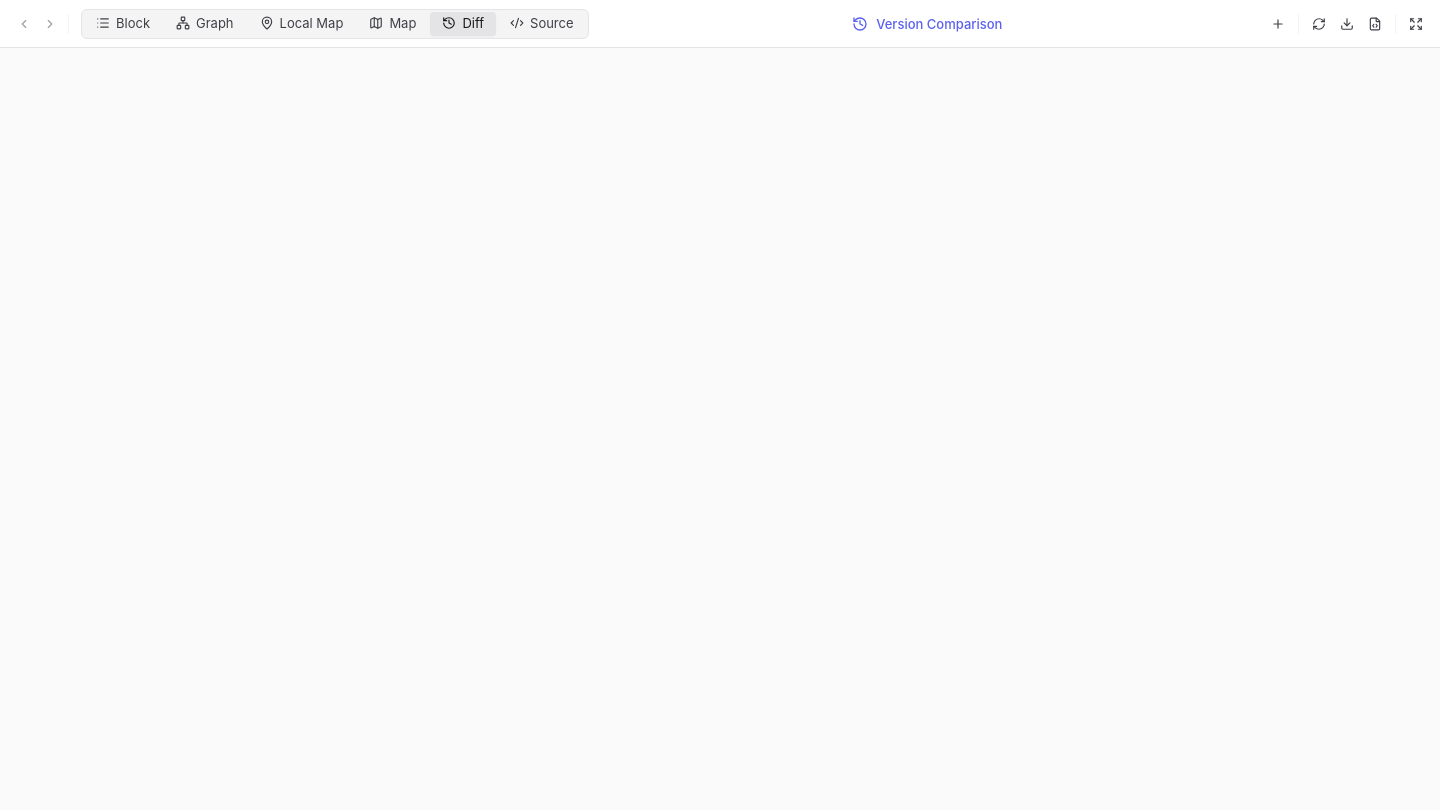
MainPaneToolbar › compares against a picked old version and switches to the diff view
Click the button named "New Comparison". click: x=1278, y=24
box: x1=1266 y1=12 x2=1290 y2=36
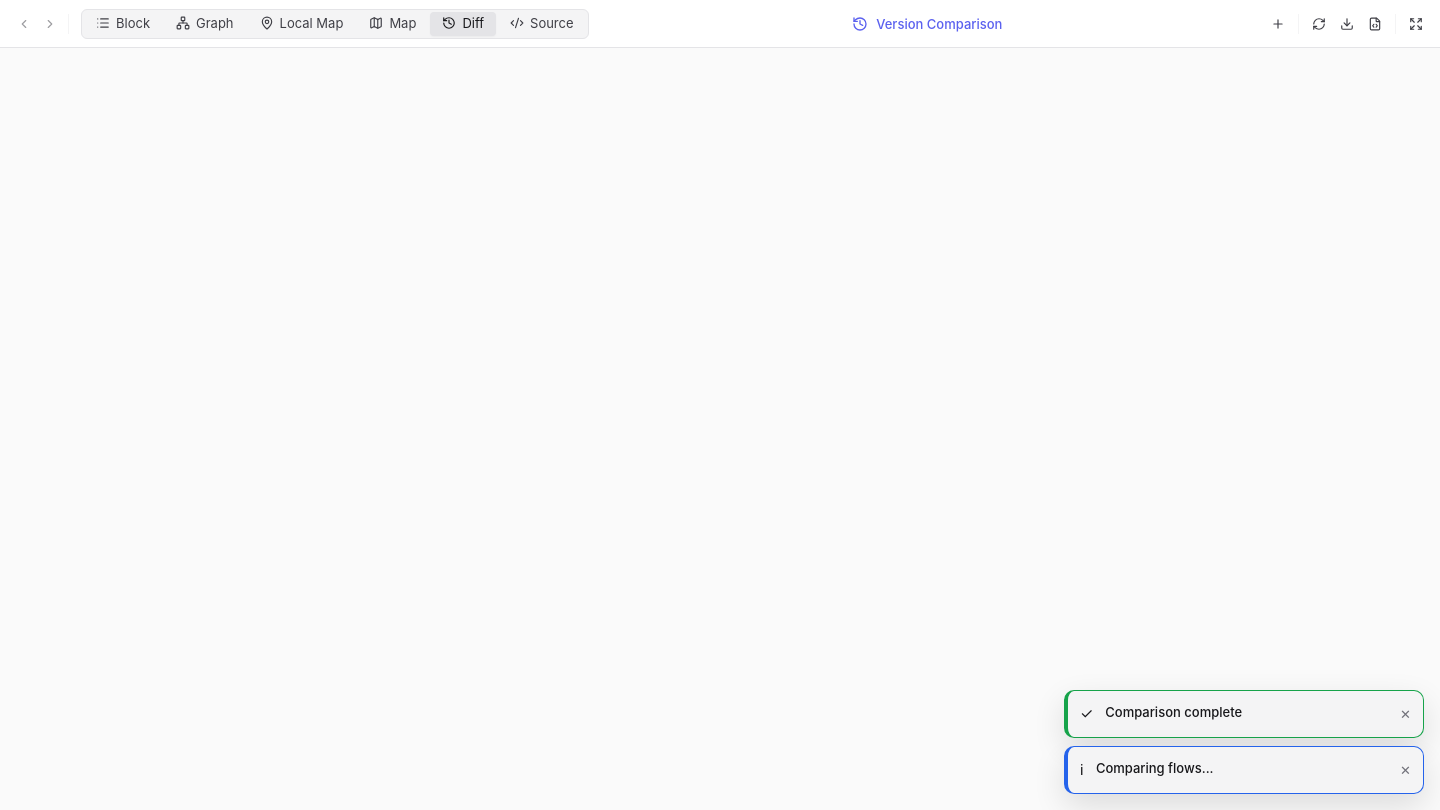
Now the text "Comparison complete" is shown, box x1=1105 y1=704 x2=1242 y2=720
